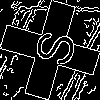S: (25, 25, 78, 69)
